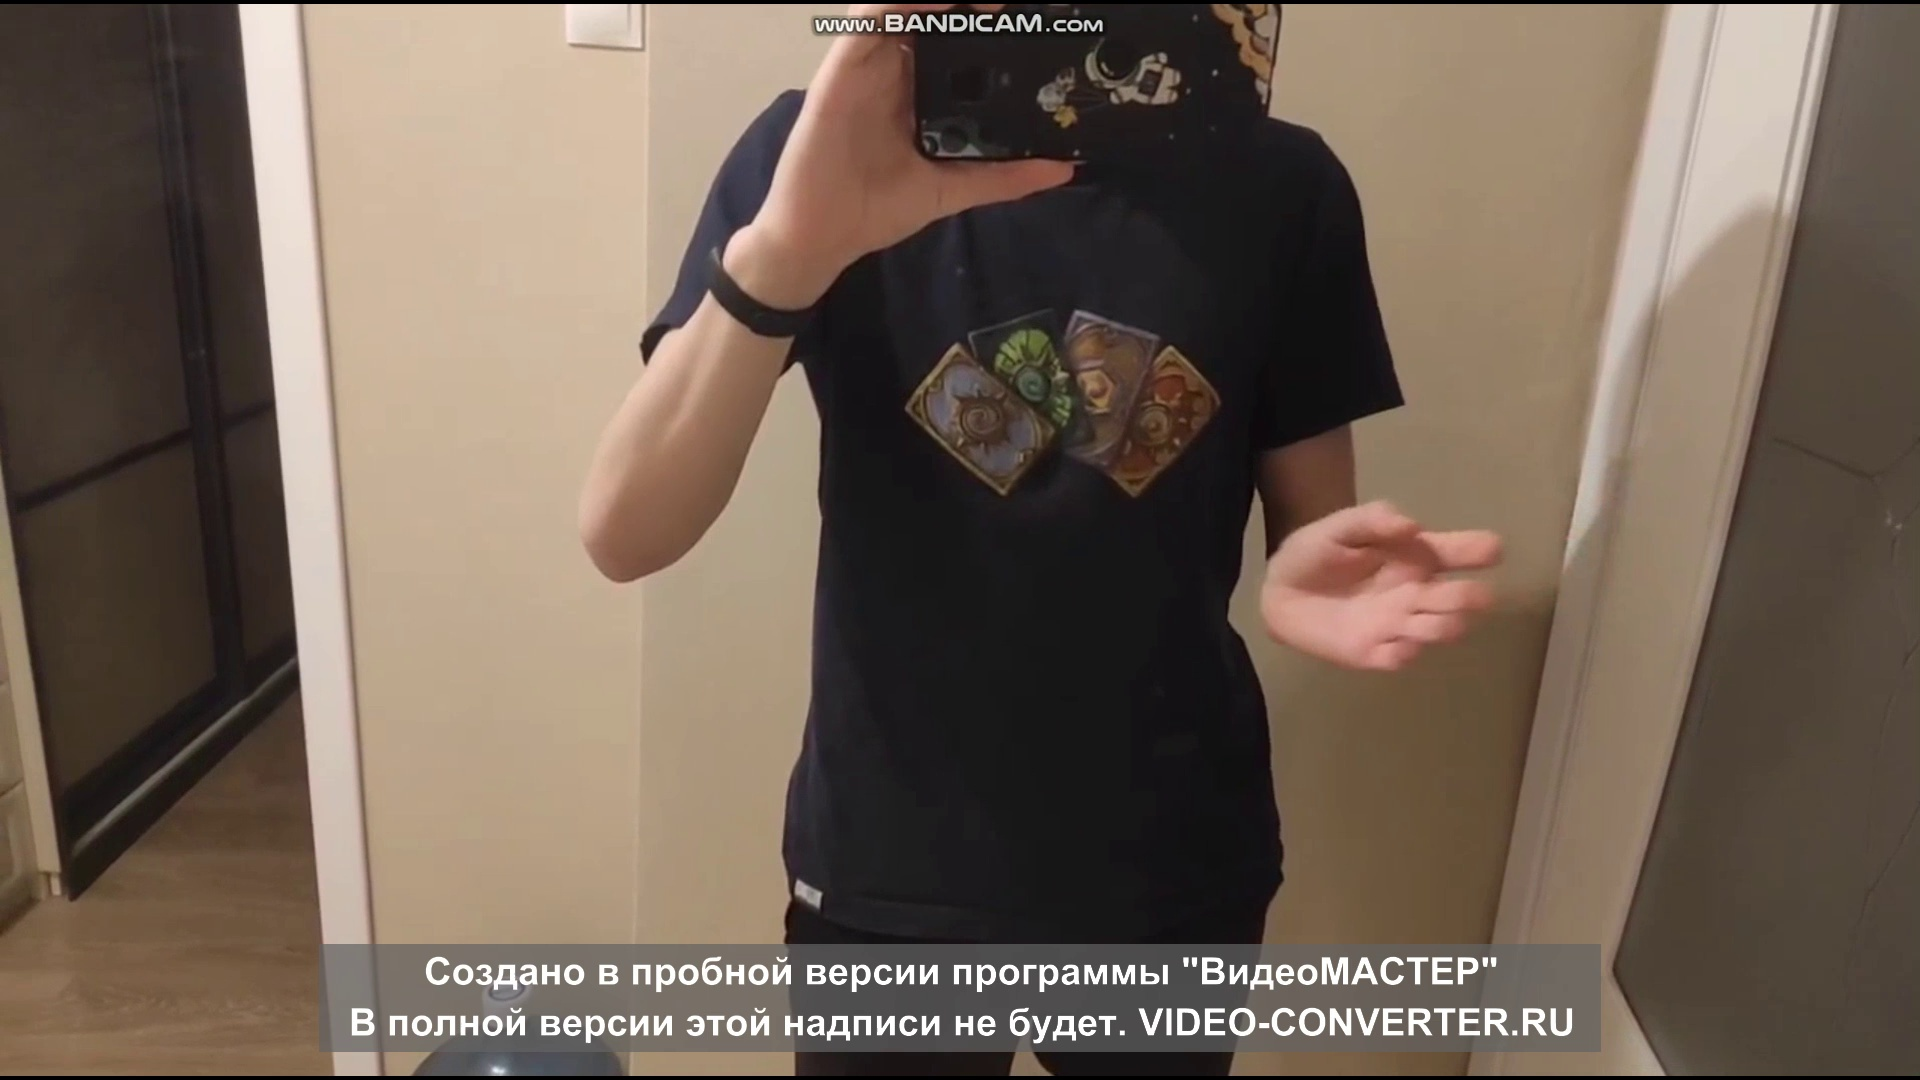Ладонь: (1265, 502, 1506, 671)
